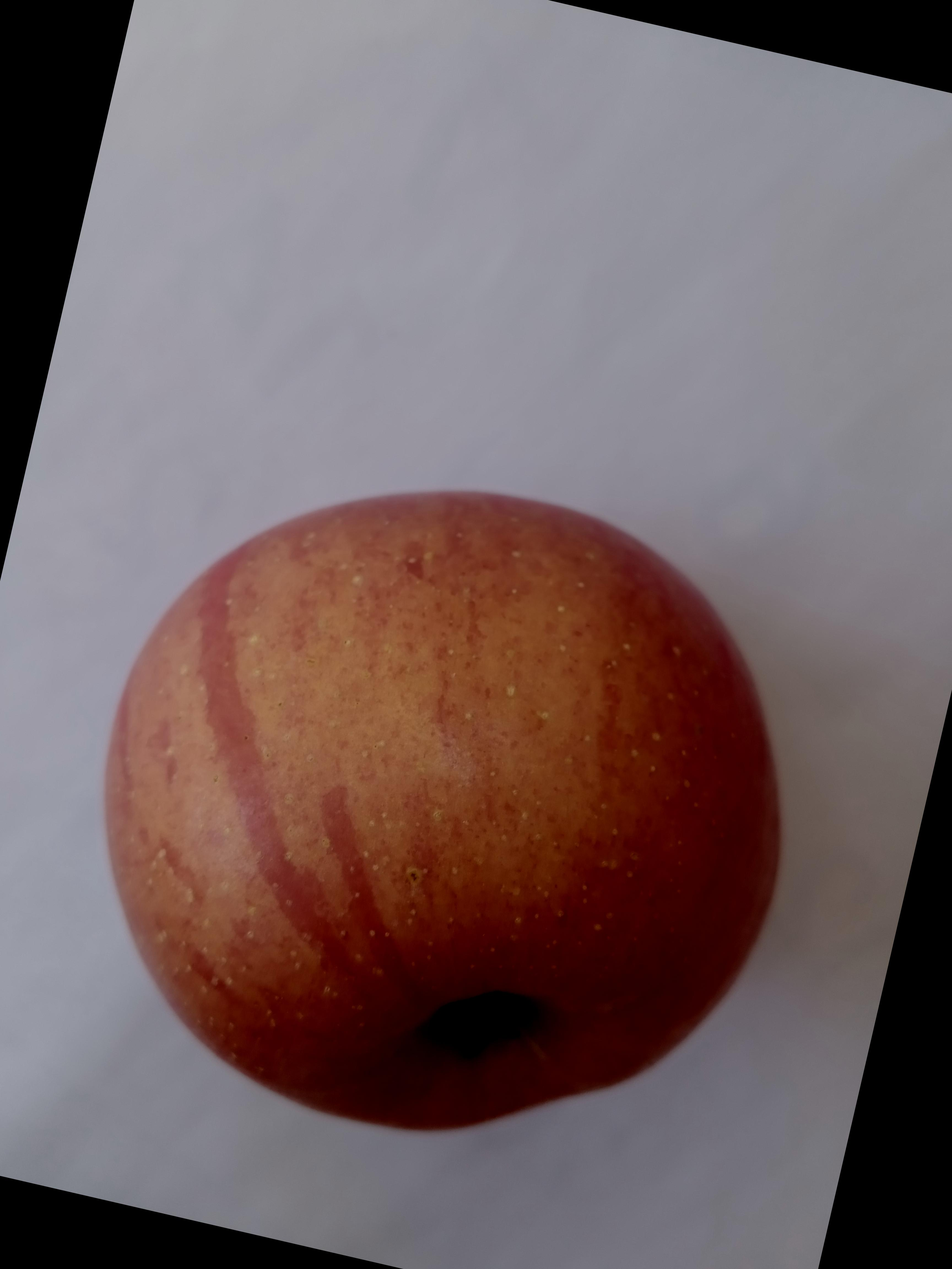Apple Ripe: (205, 256, 952, 1131)
